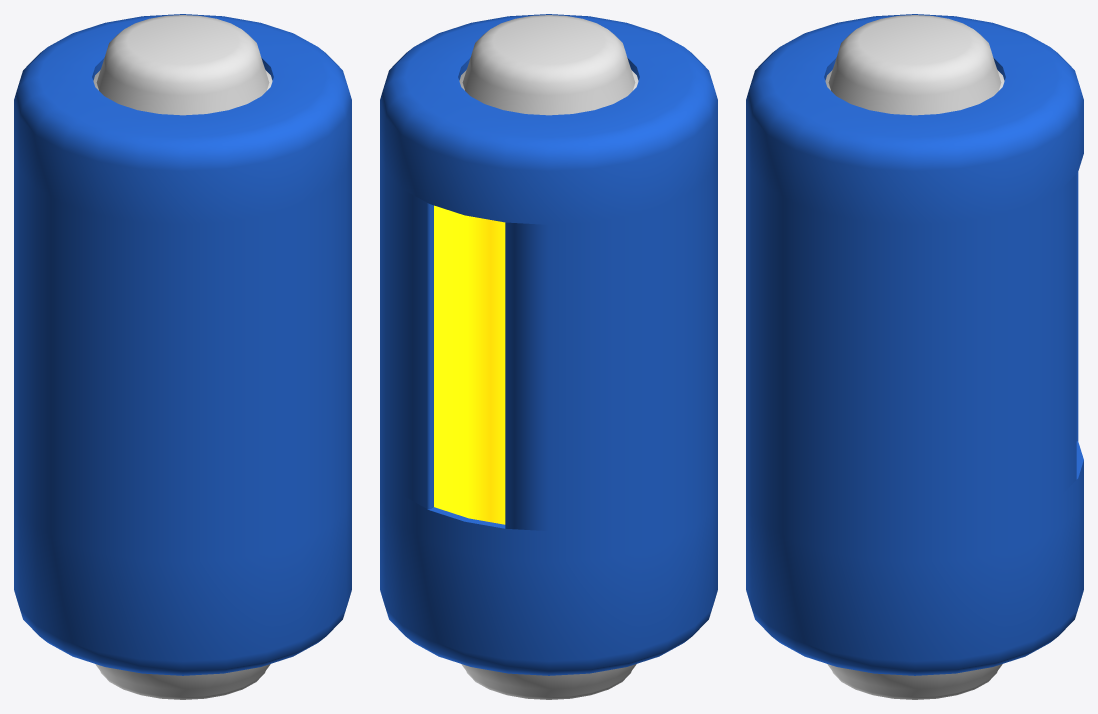
File: Battery_v1.fbx
3 renders of one model, left to right at view 1: azimuth 30°, elevation 25°; view 2: azimuth 150°, elevation 25°; view 3: azimuth 270°, elevation 25°, orthographic.
Parts seen in each view (by area): view 1: Batery_End, Buttery_Body_v1.001, Buttery_Body_v1, Battery_Bottom_v1; view 2: Batery_End, Battery_Bottom_v1, Buttery_Body_v1.001, Buttery_Body_v1; view 3: Batery_End, Battery_Bottom_v1, Buttery_Body_v1.001, Buttery_Body_v1.
Boxes of the visible parts, x1,y1,x2,y2 form: Batery_End: (14,14,351,224); Buttery_Body_v1.001: (14,307,351,531); Buttery_Body_v1: (14,154,351,377); Battery_Bottom_v1: (14,460,351,699); Batery_End: (380,14,717,224); Battery_Bottom_v1: (380,460,717,699); Buttery_Body_v1.001: (380,307,717,531); Buttery_Body_v1: (380,154,717,377); Batery_End: (746,14,1083,224); Battery_Bottom_v1: (746,441,1083,699); Buttery_Body_v1.001: (746,288,1078,531); Buttery_Body_v1: (746,154,1078,377).
Bounding box in the file's own units: 200 × 408 × 200.
